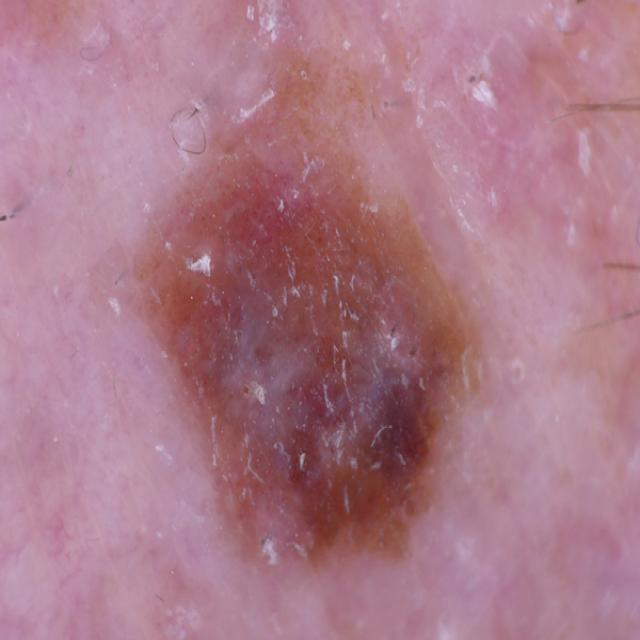NV: (140, 75, 464, 558)
